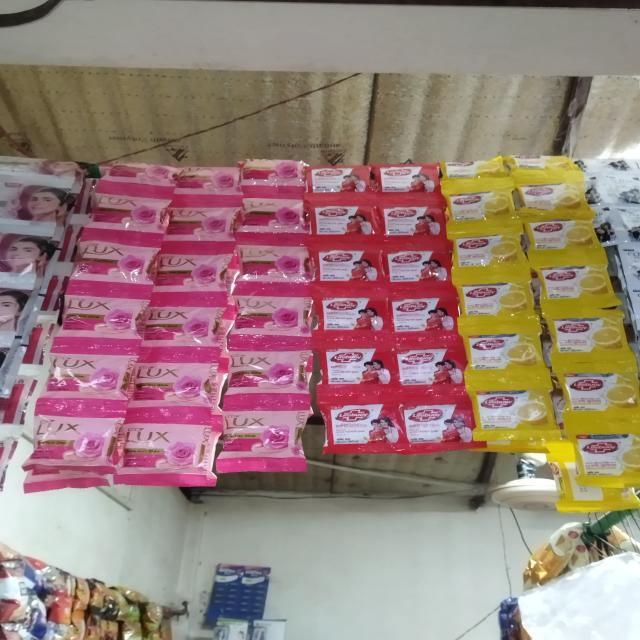ubl: (114, 418, 220, 484), (212, 407, 311, 475), (22, 412, 127, 473), (544, 312, 640, 377), (125, 351, 228, 405), (65, 240, 162, 296), (448, 230, 534, 292), (36, 351, 141, 399), (320, 397, 406, 455), (470, 386, 558, 438), (522, 220, 610, 271), (218, 348, 313, 393), (532, 264, 620, 312), (58, 294, 154, 337), (226, 294, 320, 337), (465, 334, 545, 382), (92, 163, 185, 204), (441, 177, 516, 227), (137, 304, 233, 343), (85, 193, 173, 234), (148, 252, 236, 292), (518, 181, 595, 224), (234, 244, 314, 284), (570, 435, 638, 482), (451, 280, 526, 322), (321, 346, 396, 386), (237, 197, 313, 235), (160, 206, 243, 240), (558, 373, 628, 413), (395, 348, 466, 387), (171, 165, 249, 199), (237, 158, 309, 194), (317, 297, 389, 330), (0, 188, 58, 227), (304, 207, 378, 237), (1, 372, 37, 427), (386, 249, 440, 284), (306, 164, 365, 194), (315, 248, 367, 282), (0, 156, 73, 180), (390, 298, 441, 332), (376, 164, 428, 194), (444, 158, 503, 180), (507, 155, 578, 173)
